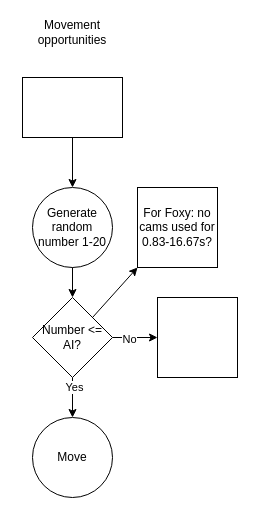
This 255x515 diagram has some shape labels left out. Each missing label, with the box of its shape:
End: (156, 296, 238, 378)
Every X seconds (fred 3.02, bon 4.97, chi 4.98, fox 5.01): (22, 76, 122, 138)
